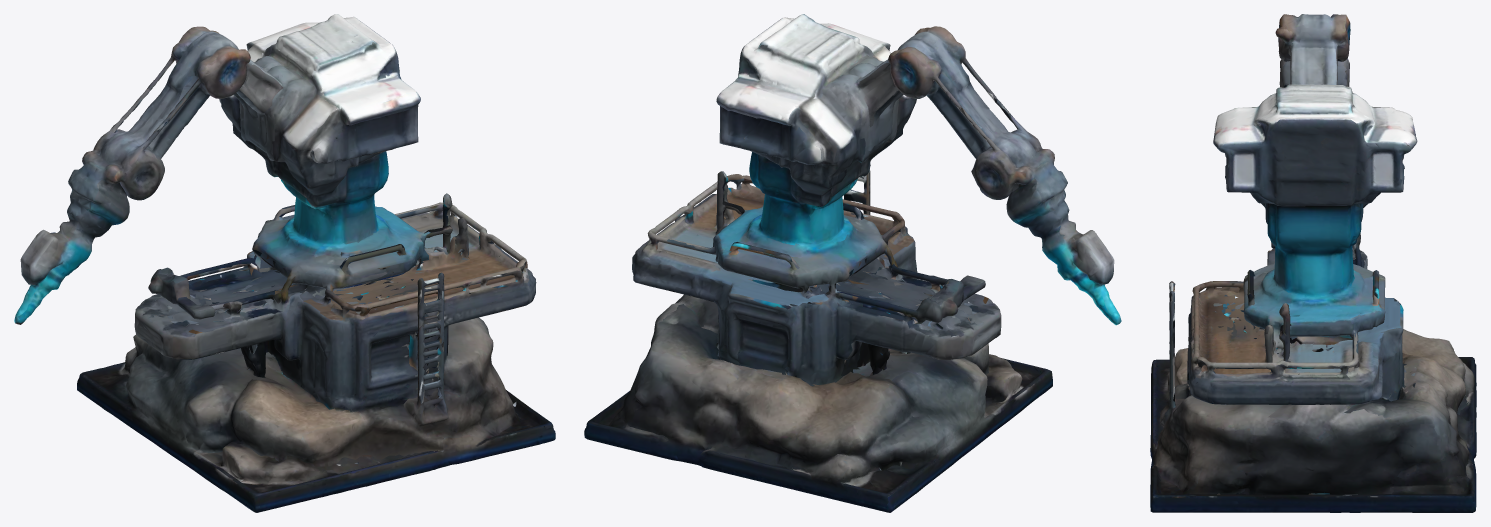
File: mineral_drill.glb
3 renders of one model, left to right at view 1: azimuth 30°, elevation 25°; view 2: azimuth 150°, elevation 25°; view 3: azimuth 270°, elevation 25°, orthographic. The views are drawn at different scales.
Visible parts, largest first — view 1: geometry_0; view 2: geometry_0; view 3: geometry_0.
Boxes of the visible parts, x1,y1,x2,y2 form: geometry_0: (14,14,555,512); geometry_0: (584,14,1121,512); geometry_0: (1150,14,1476,512).
Bounding box in the file's own units: 4 × 3.31 × 2.57.
Materials: 1 (1 with a texture image).
